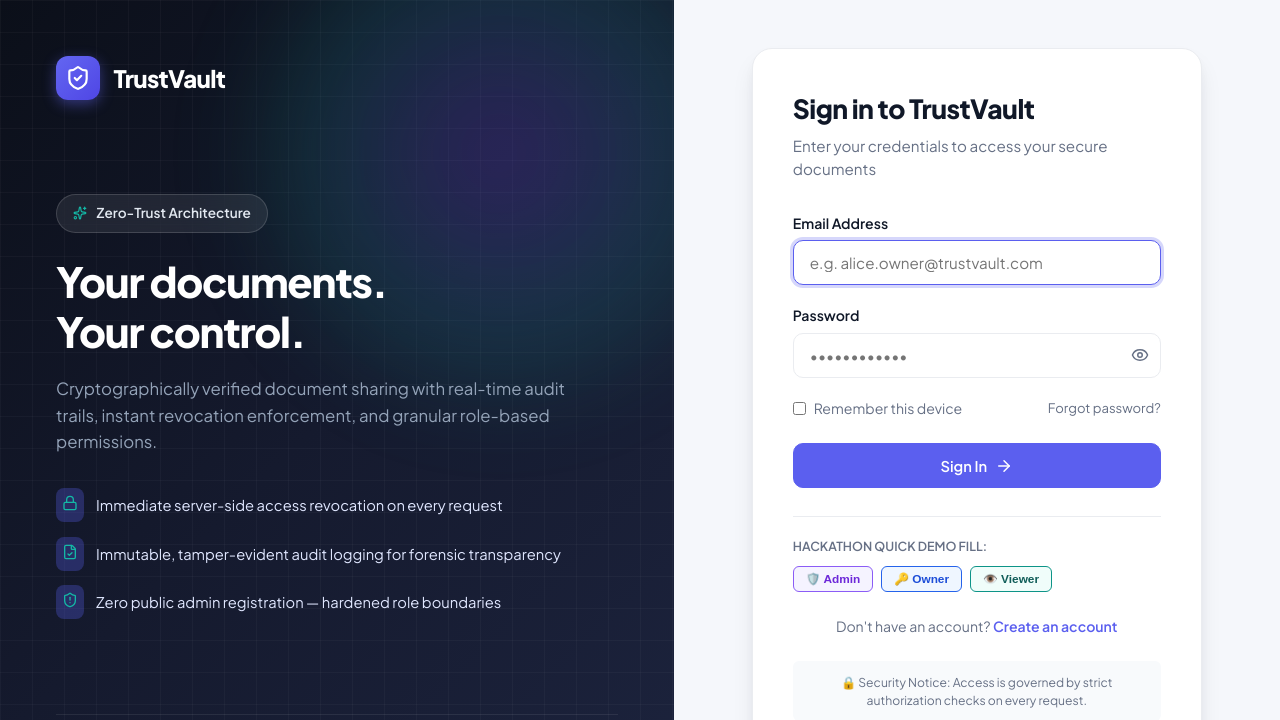
Test: Authentication Pages › populates credentials when Admin demo button is clicked
Click the button "🛡️ Admin" at (833, 579), box [793,566,873,592]
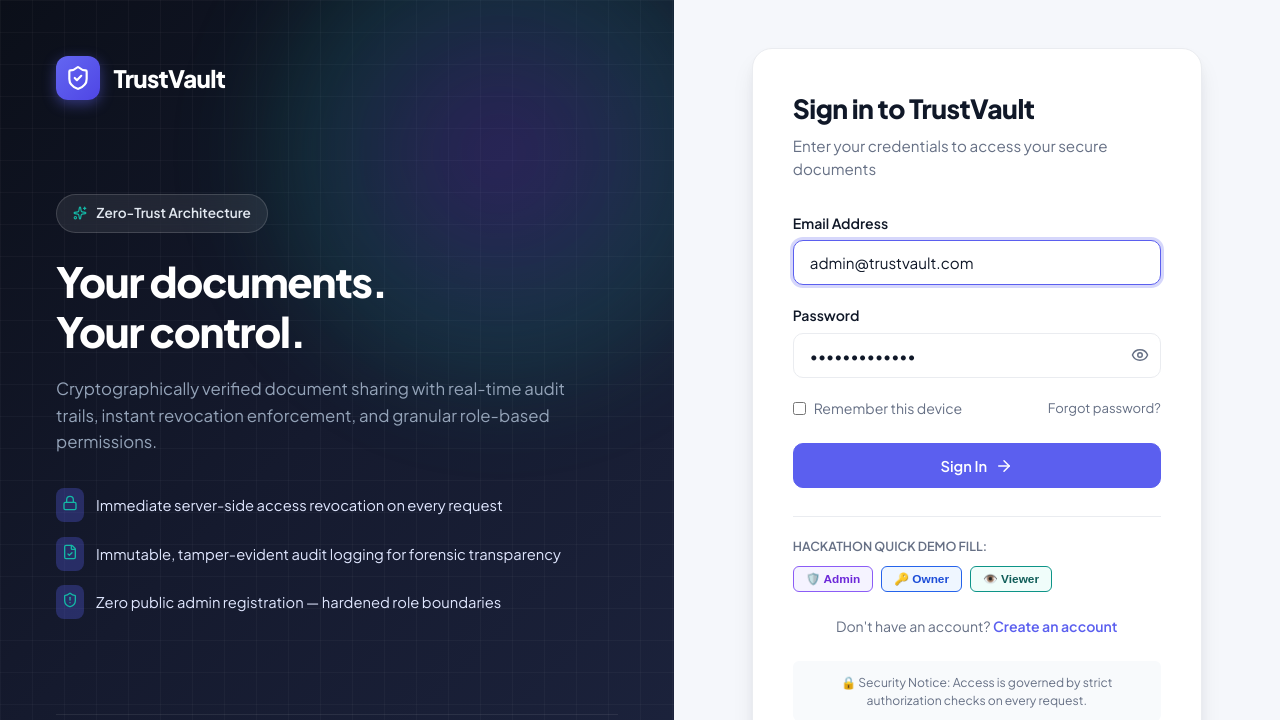
Check: the field labelled "Email Address" holds "admin@trustvault.com", box [793,240,1161,285]
